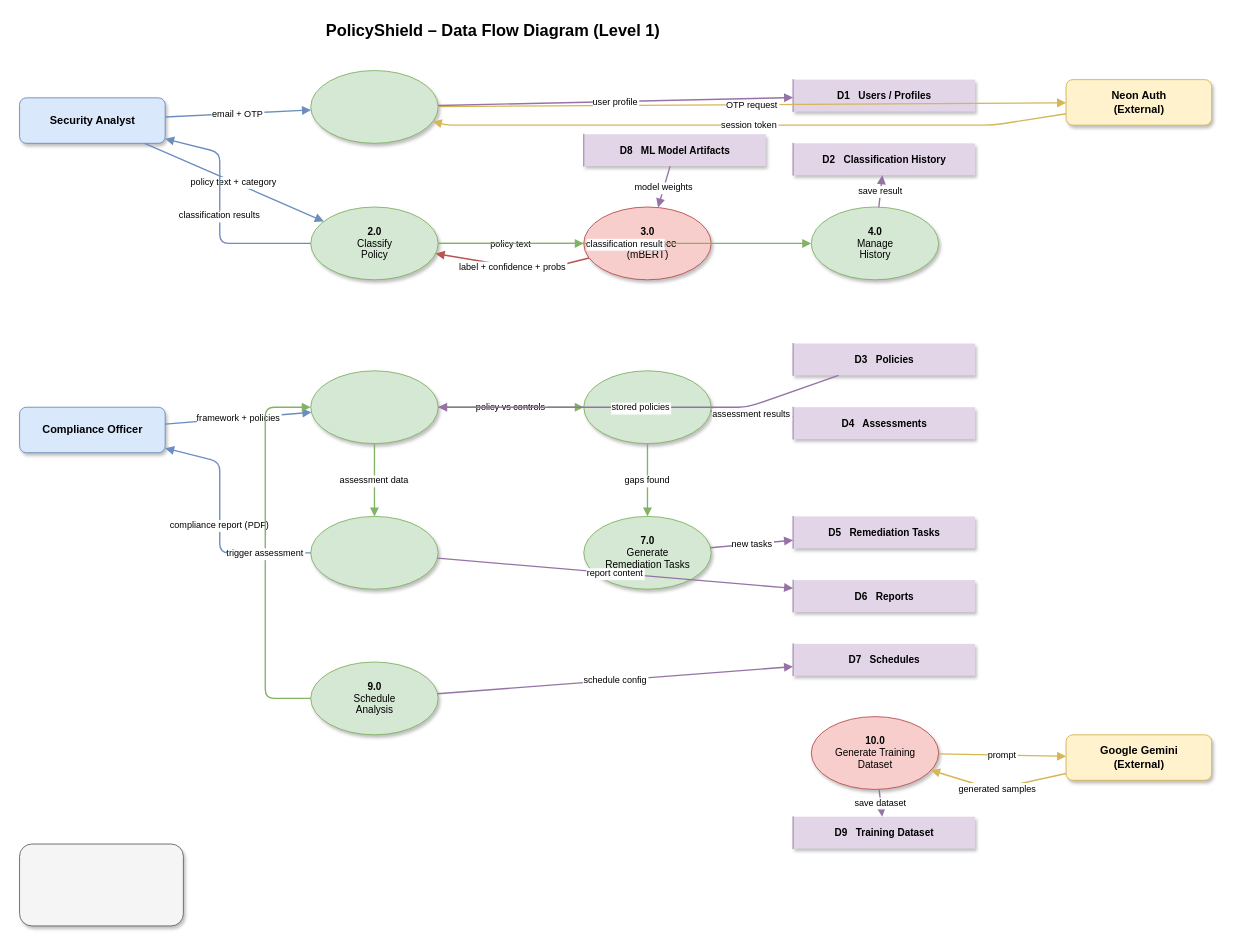
Image size: 1233x948. Some labels were removed from this diagram. Here are the shapes that lost their labels. From the top down, the centre of each, then its label:
pixel 375 108: 1.0 Authenticate User
pixel 375 408: 5.0 Run Compliance Assessment
pixel 648 408: 6.0 Detect Gaps & Score
pixel 375 554: 8.0 Generate Reports
pixel 102 885: Legend ██ External Entity ██ Process ██ Data Store → Data Flow
